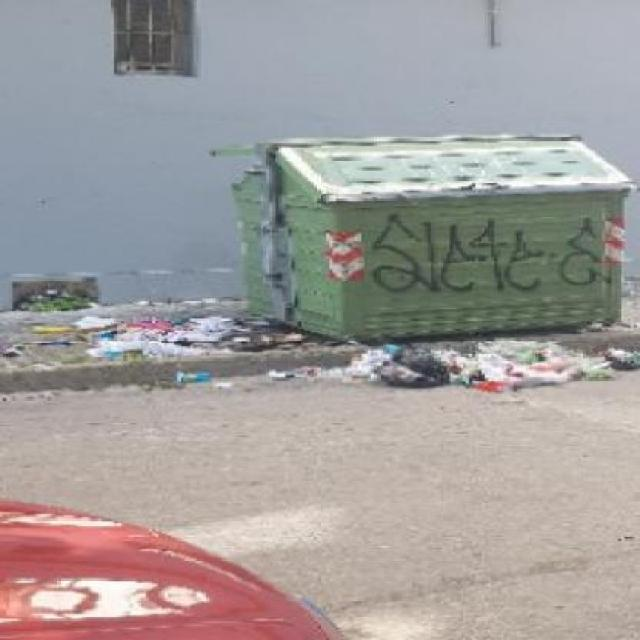garbage: (345, 329, 636, 393), (45, 317, 318, 372)
